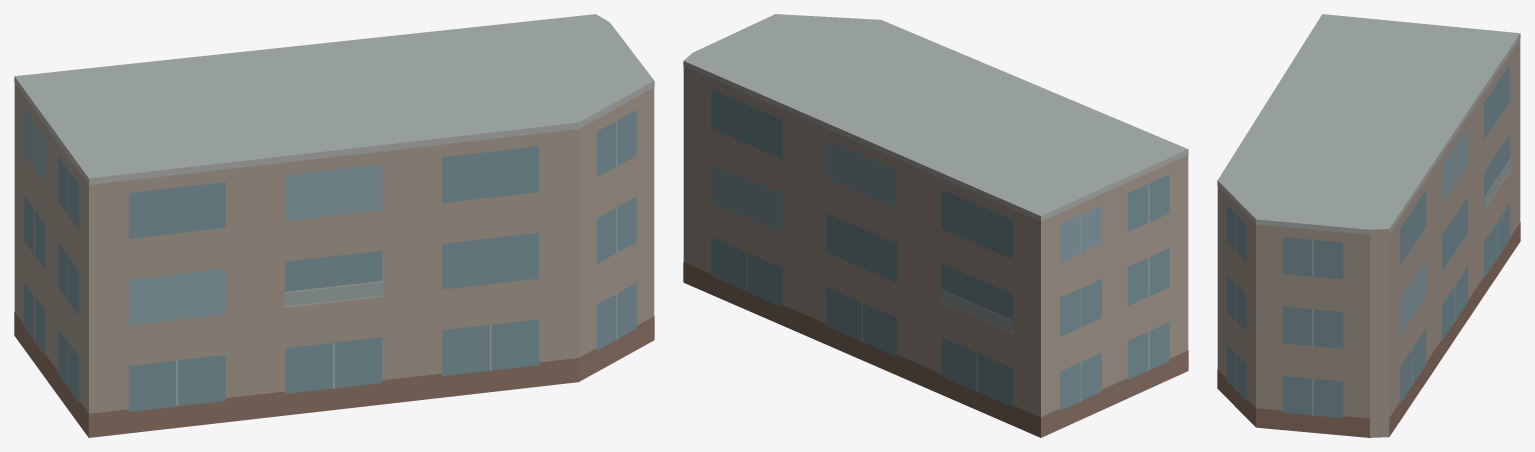
Rendered from survey-upis-32471724.glb.
3 renders of one model, left to right at view 1: azimuth 30°, elevation 25°; view 2: azimuth 150°, elevation 25°; view 3: azimuth 270°, elevation 25°, orthographic. The views are drawn at different scales.
Visible parts, largest first — view 1: survey-upis-32471724.tmp; view 2: survey-upis-32471724.tmp; view 3: survey-upis-32471724.tmp.
Part boxes in pixels (left/top/right/bottom): survey-upis-32471724.tmp: left=14, top=14, right=654, bottom=437; survey-upis-32471724.tmp: left=683, top=14, right=1188, bottom=437; survey-upis-32471724.tmp: left=1217, top=14, right=1520, bottom=437.
Bounding box in the file's own units: 21.76 × 9.79 × 12.92.
